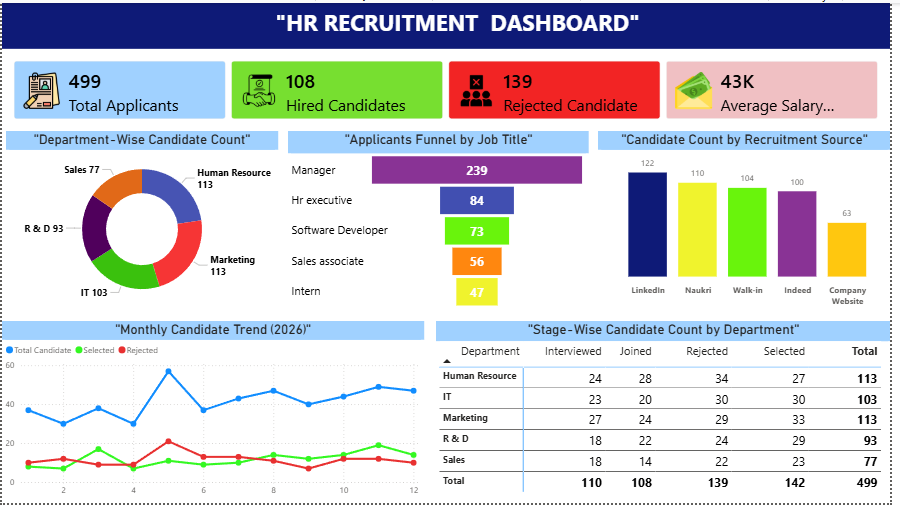

The dashboard page shown, as its layout file describes it:
{"tool":"powerbi","page":{"name":"Page 1","canvas":[1280,720],"ordinal":0},"visuals":[{"type":"funnel","title":"\"Applicants Funnel by Job Title\"","fields":{"Y":["Measure Table.Total Candidate"],"Category":["Job.Job_Title"]},"box":[411.8,184.3,433.4,260.6],"z":0},{"type":"lineChart","title":"\"Monthly Candidate Trend (2026)\"","fields":{"Y":["Measure Table.Total Candidate","Measure Table.Selected","Measure Table.Rejected"],"Category":["rrrrr.Applied_Month"]},"box":[0,457.9,607.7,262.1],"z":1000},{"type":"donutChart","title":"\"Department-Wise Candidate Count\"","fields":{"Y":["Measure Table.Total Candidate"],"Category":["Department.Department_name"]},"box":[5.8,184.3,391.7,260.6],"z":2000},{"type":"pivotTable","title":"\"Stage-Wise Candidate Count by Department\"","fields":{"Rows":["Department.Department_name"],"Columns":["Requirement.StageWise"],"Values":["Measure Table.Total Candidate"]},"box":[625,457.9,655.2,260.6],"z":3000},{"type":"clusteredColumnChart","title":"\"Candidate Count by Recruitment Source\"","fields":{"Category":["Source.Source_Name"],"Y":["Measure Table.Total Candidate"]},"box":[858.2,184.3,421.9,260.6],"z":4000},{"type":"cardVisual","fields":{"Data":["Measure Table.Total Candidate","Measure Table.Joined","Measure Table.Rejected","Measure Table.AVG SALARY (DEPT)"]},"box":[0,66.2,1280.2,118.1],"z":5000},{"type":"textbox","box":[0,0,1280.2,66.2],"z":6000}]}

Visuals, with their boxes in screenshot pixels (x1, y1, x2, y2), scaled from the page's 1280x720 canvas onto the 900x507 screenshot:
""Applicants Funnel by Job Title"" funnel: (left=290, top=130, right=594, bottom=313)
""Monthly Candidate Trend (2026)"" lineChart: (left=0, top=322, right=427, bottom=506)
""Department-Wise Candidate Count"" donutChart: (left=4, top=130, right=279, bottom=313)
""Stage-Wise Candidate Count by Department"" pivotTable: (left=439, top=322, right=899, bottom=506)
""Candidate Count by Recruitment Source"" clusteredColumnChart: (left=603, top=130, right=899, bottom=313)
cardVisual - Measure Table.Total Candidate x Measure Table.Joined: (left=0, top=47, right=899, bottom=130)
textbox: (left=0, top=0, right=899, bottom=47)
